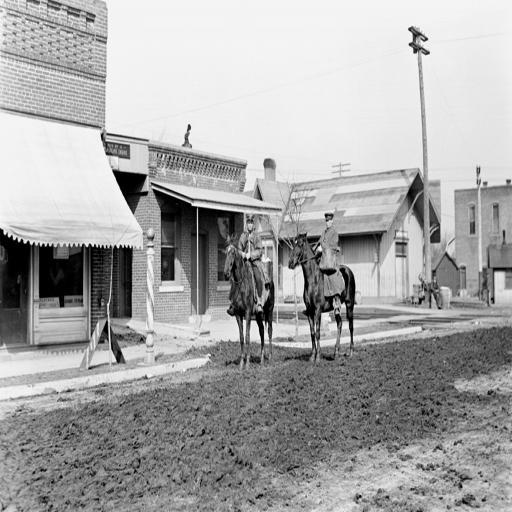Horse: (290, 235, 358, 358), (222, 232, 274, 371)
